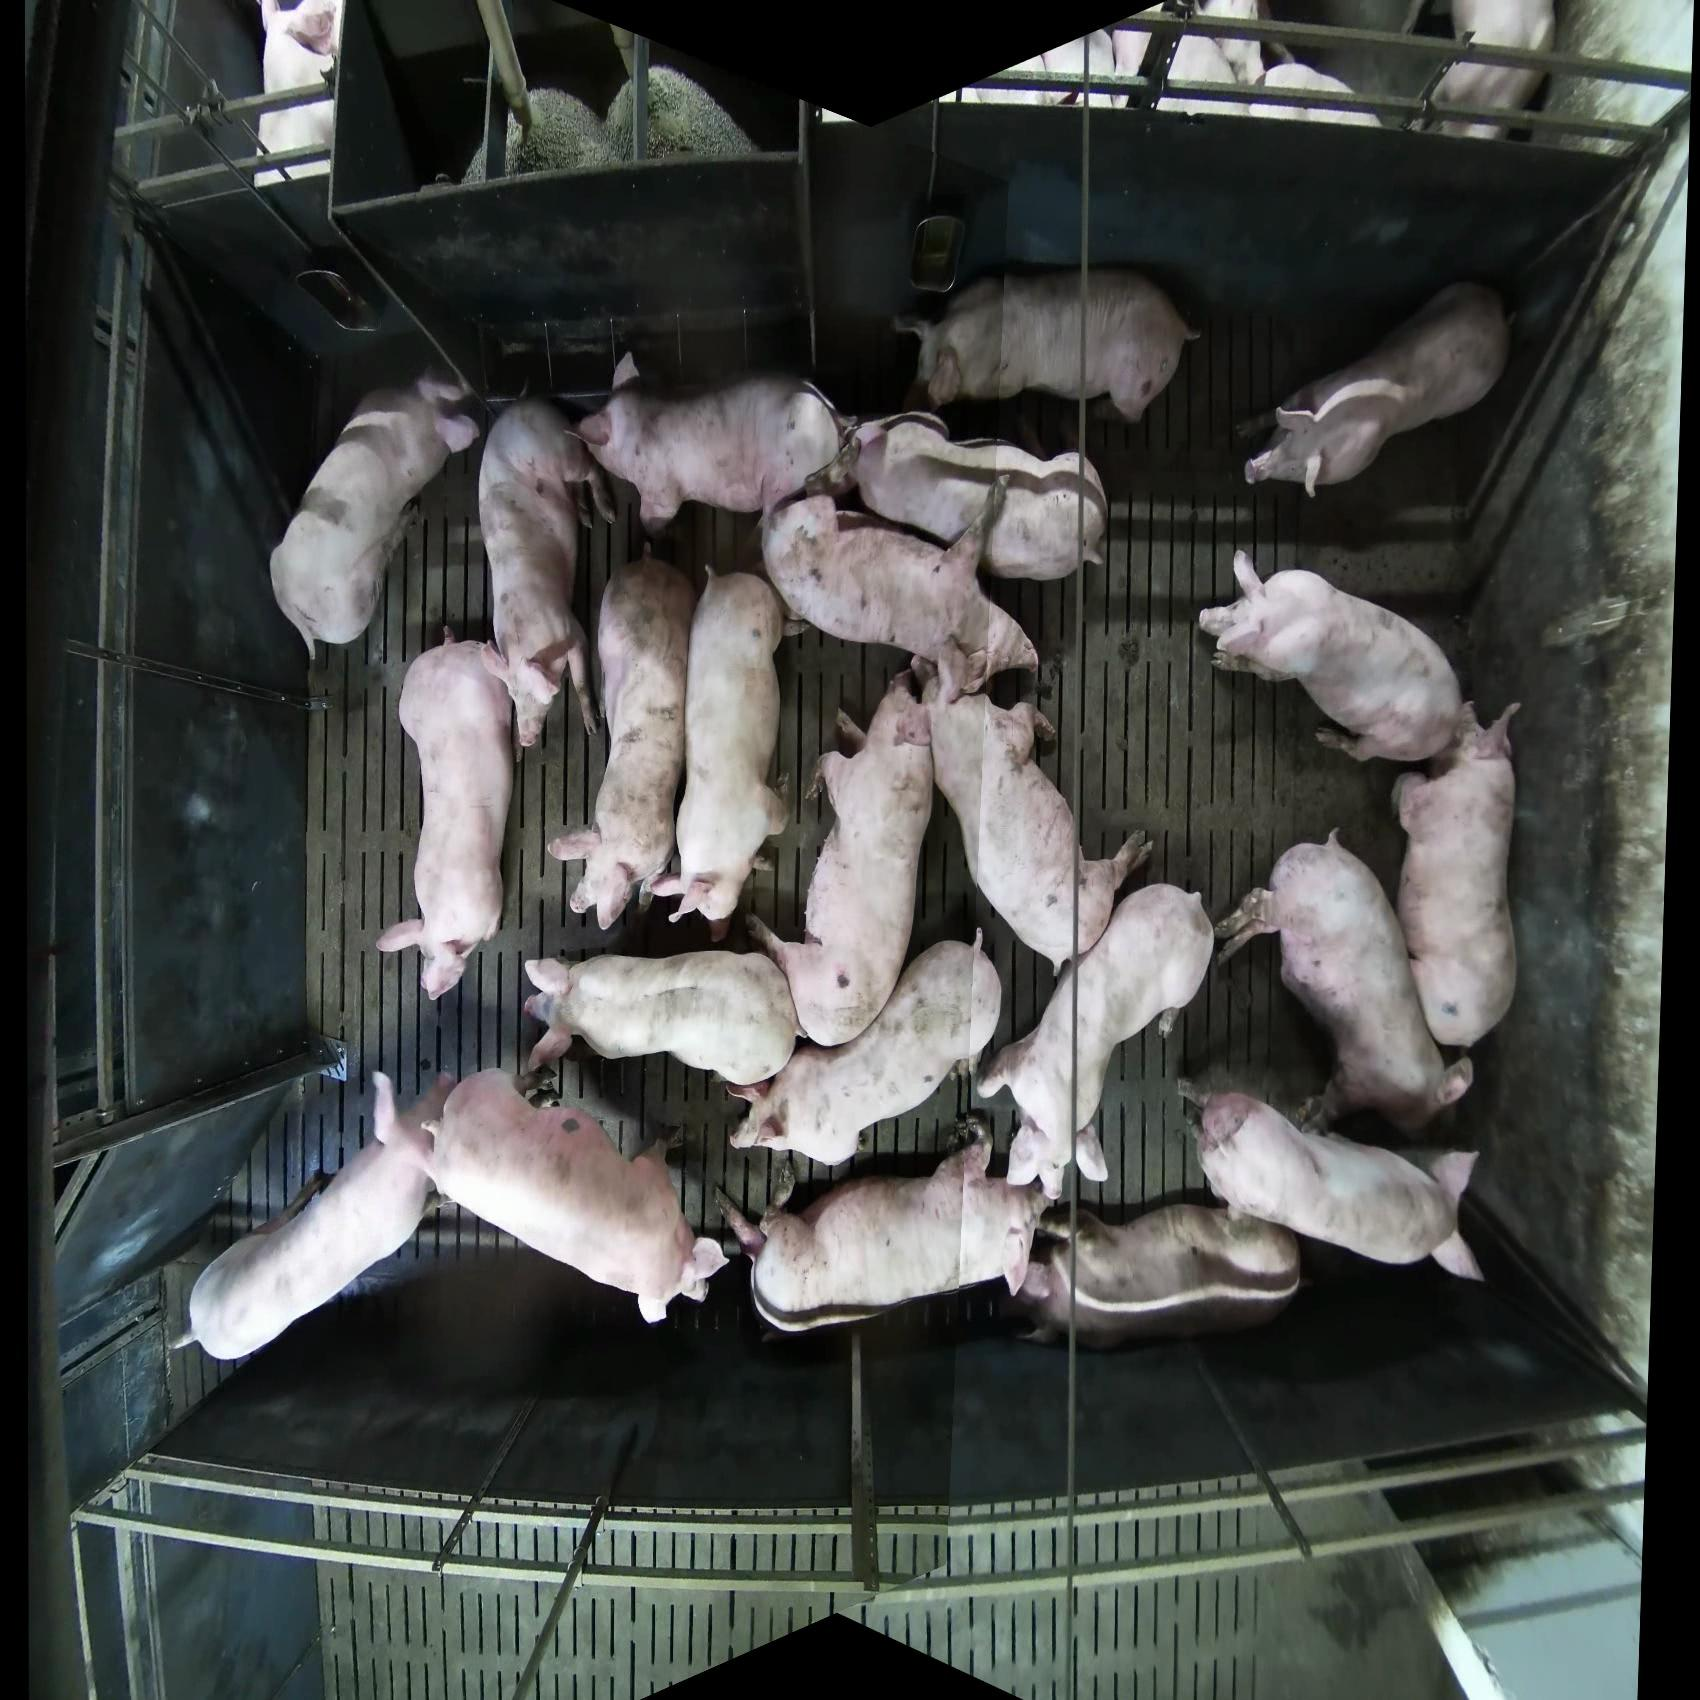pig: (173, 1068, 458, 1364), (1214, 827, 1476, 1138), (416, 1066, 730, 1325), (917, 640, 1154, 973), (976, 881, 1217, 1199), (719, 1115, 1055, 1336), (746, 666, 939, 1049), (722, 926, 1003, 1168), (268, 366, 479, 665), (1197, 546, 1470, 767), (1241, 279, 1512, 500), (760, 489, 1041, 701), (1186, 1087, 1487, 1284), (545, 554, 696, 931), (375, 637, 522, 1003), (648, 568, 792, 933), (574, 350, 856, 532), (476, 395, 616, 753), (898, 266, 1202, 427), (1392, 699, 1523, 1049), (848, 411, 1108, 582), (1007, 1200, 1303, 1350), (522, 948, 800, 1087), (1537, 2, 1694, 157), (1264, 2, 1438, 131), (1426, 2, 1558, 140), (255, 2, 344, 185), (1249, 61, 1386, 129), (1189, 2, 1269, 90)
